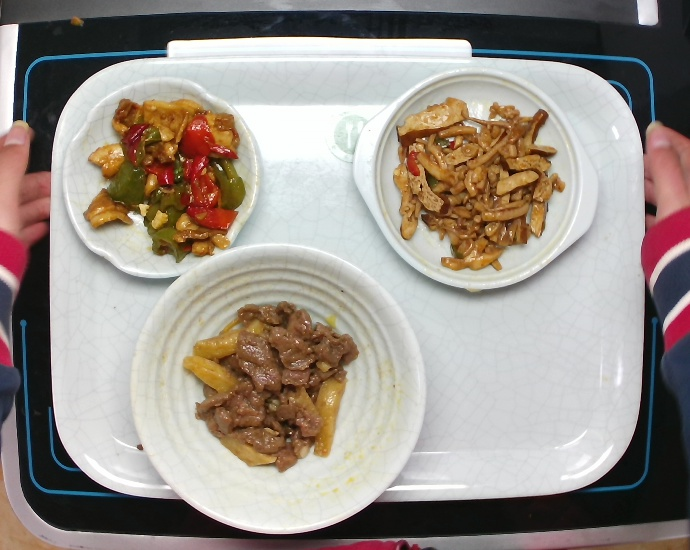JYsf-Ao_Yuan_Wan: (57, 77, 261, 281)
JYsf-Shuang_Er_Pan: (356, 65, 605, 301)
JYsf-Xiao_Tang_Wan: (127, 240, 428, 537)
